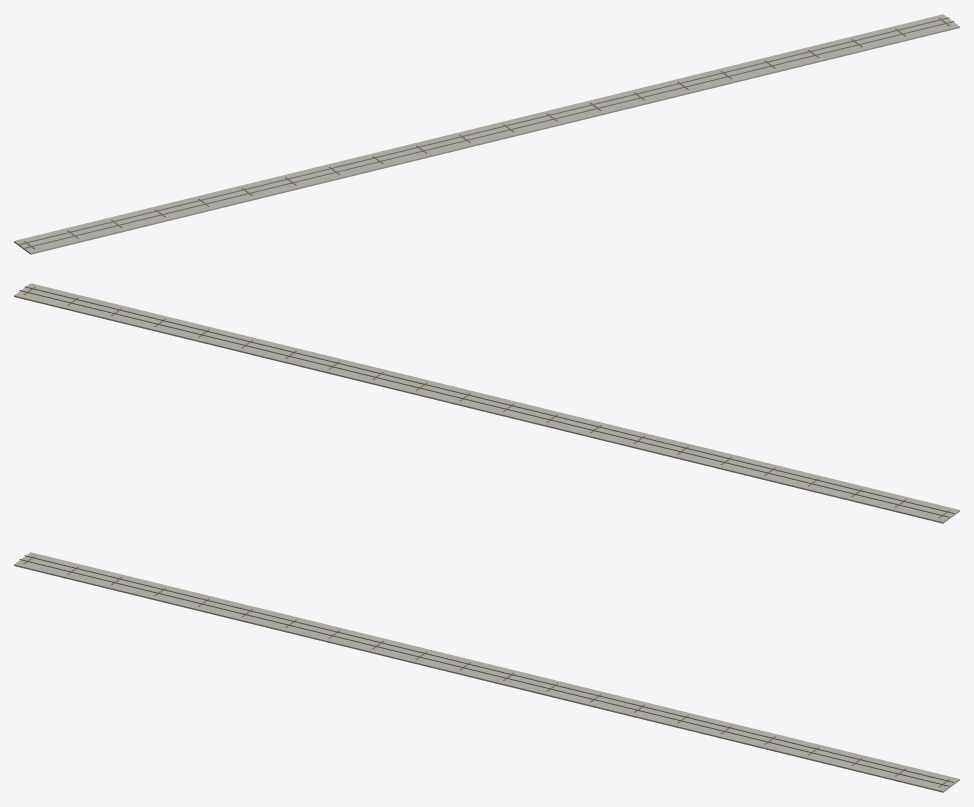
File: valley-14-12.glb
The picture shows the model from 3 angles, top to bottom: view 1: azimuth 30°, elevation 25°; view 2: azimuth 150°, elevation 25°; view 3: azimuth 330°, elevation 25°; orthographic projection.
Visible parts, largest first — view 1: valley-14-12; view 2: valley-14-12; view 3: valley-14-12.
Boxes of the visible parts, x1,y1,x2,y2 form: valley-14-12: [14, 14, 959, 254]; valley-14-12: [14, 283, 959, 523]; valley-14-12: [14, 552, 959, 792].
Bounding box in the file's own units: 256 × 0.7 × 8.
